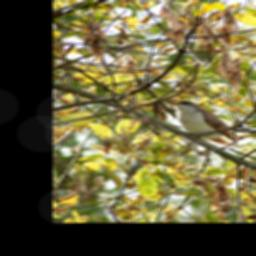Cuckoo: (163, 96, 246, 144)
